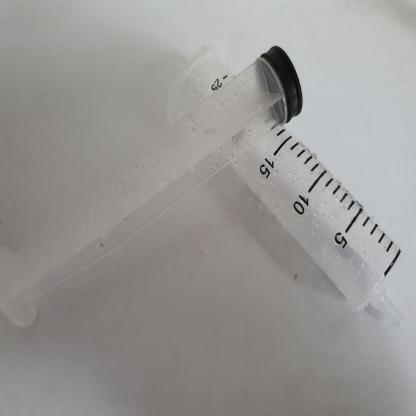wet: (0, 43, 305, 344), (160, 42, 416, 352)
